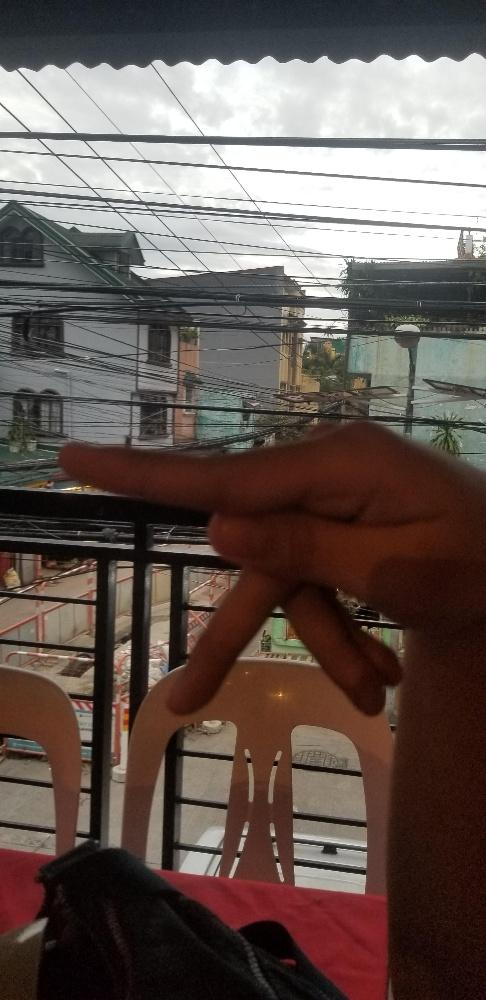p: (58, 420, 484, 716)
